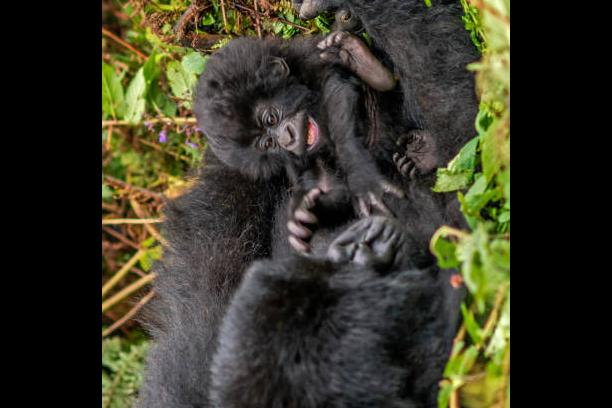goriile_montagne: (141, 185, 450, 408), (182, 22, 396, 196)
